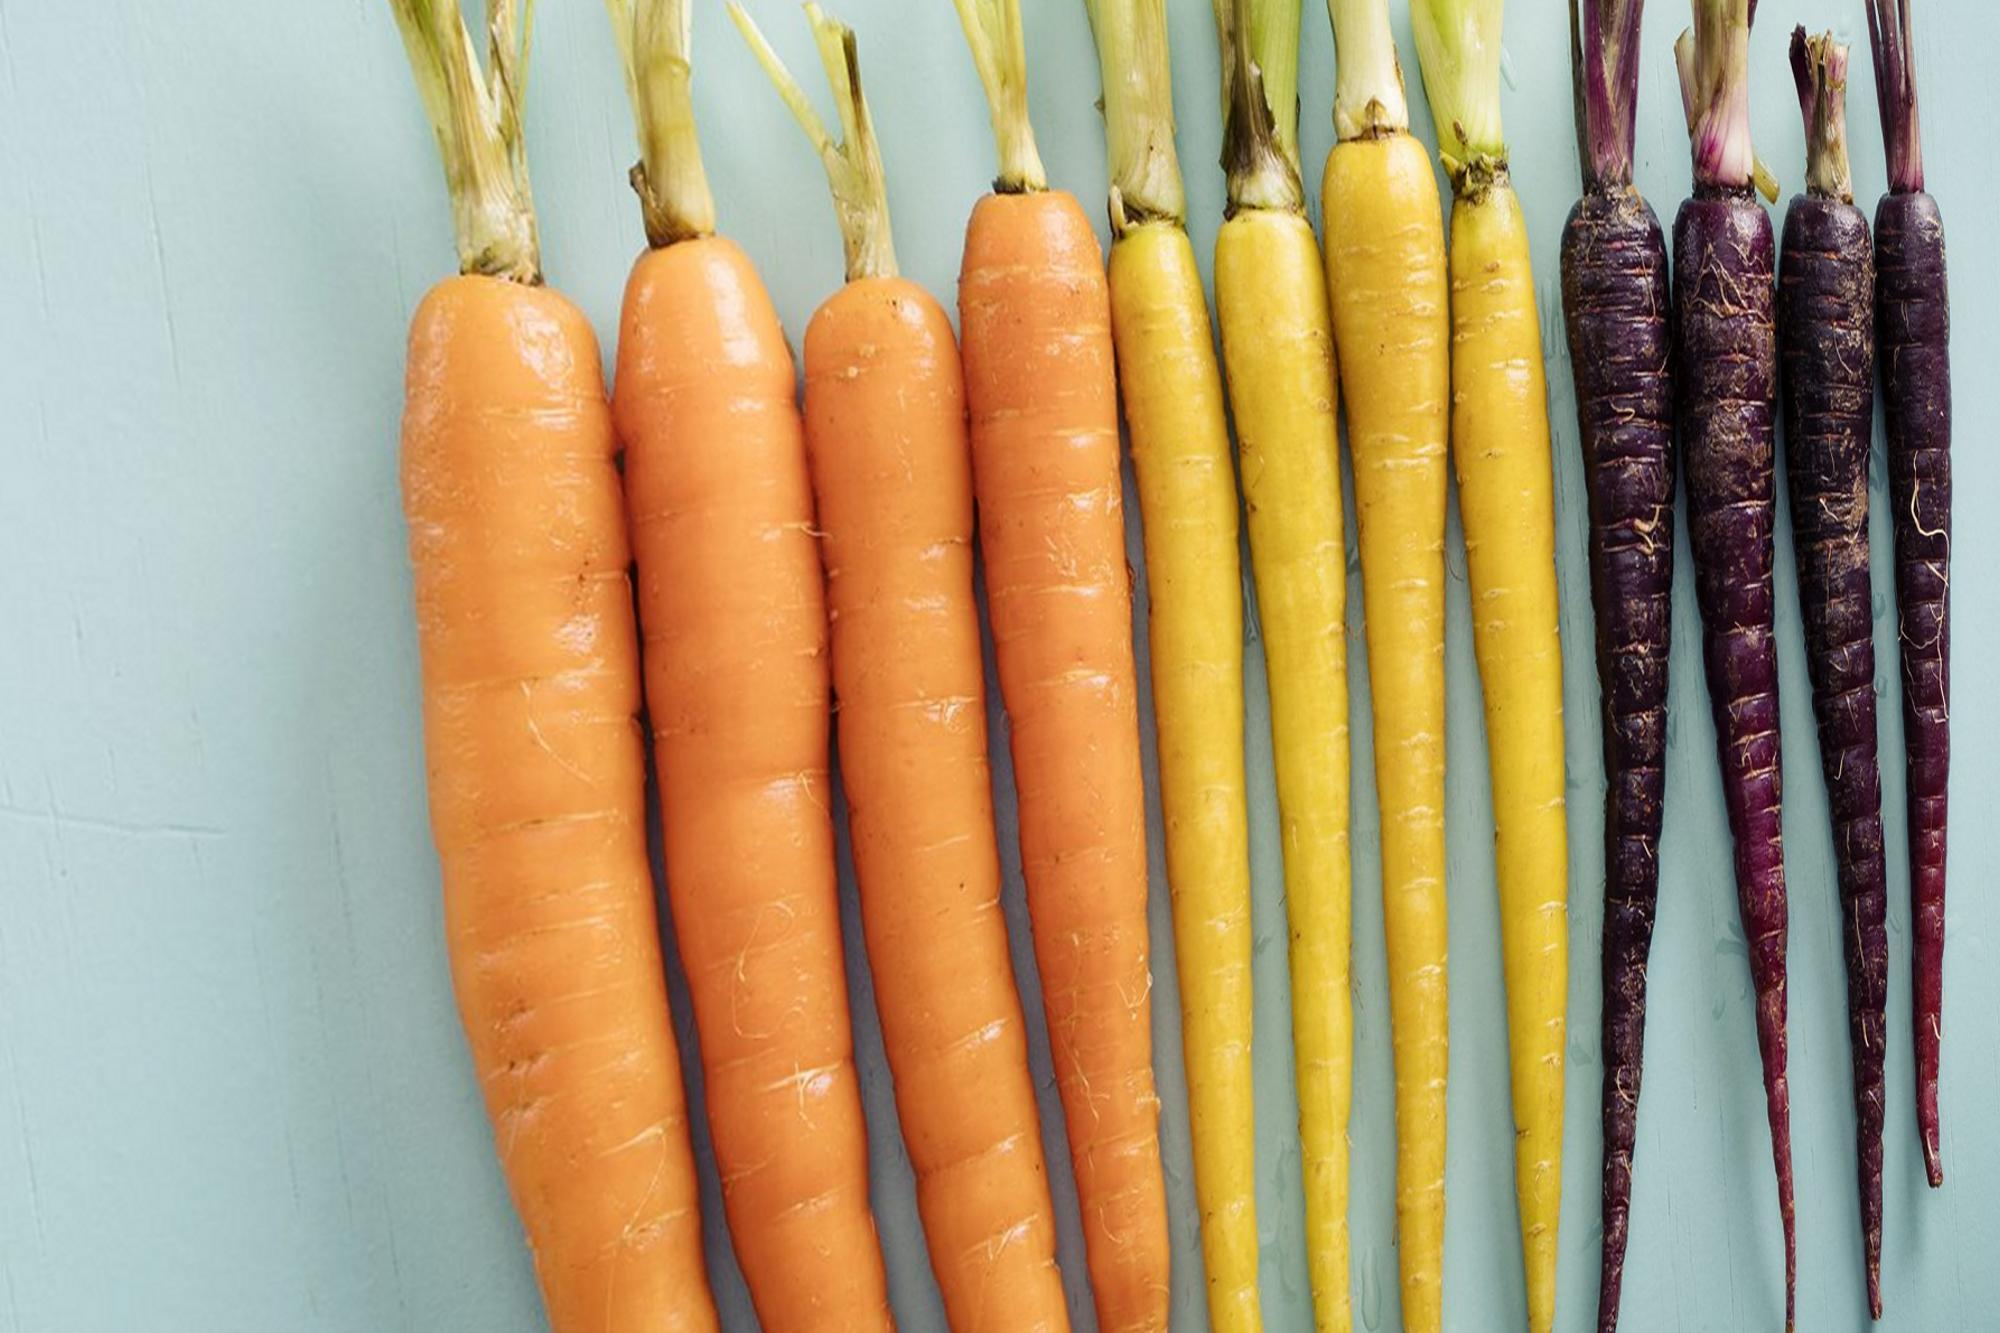carrot: (391, 186, 1154, 1333), (622, 240, 1138, 1333), (421, 268, 642, 1333)
